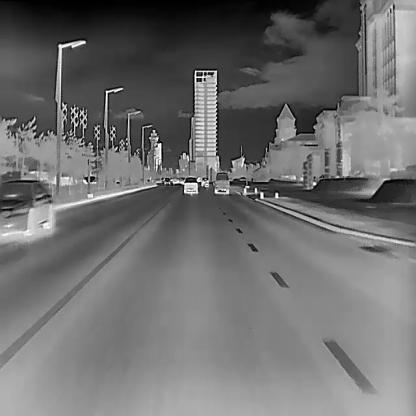car: (0, 179, 53, 239), (212, 170, 230, 194), (183, 175, 198, 194), (200, 176, 208, 186), (164, 177, 169, 185)
